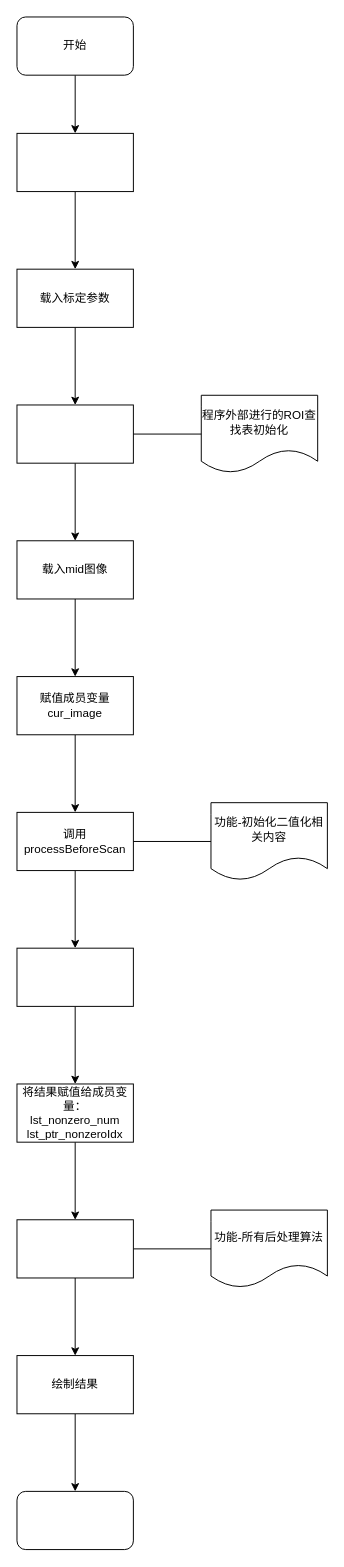
The diagram is 344 pixels wide and 1567 high, and some of its shapes have lost their labels. Each missing label, with the box of its shape:
引入ROI: (16, 404, 133, 463)
结束: (16, 1490, 133, 1550)
调用函数 processAfterScan: (16, 1219, 133, 1278)
载入二值化处理结果: (16, 947, 133, 1006)
载入处理参数: (16, 132, 133, 192)
